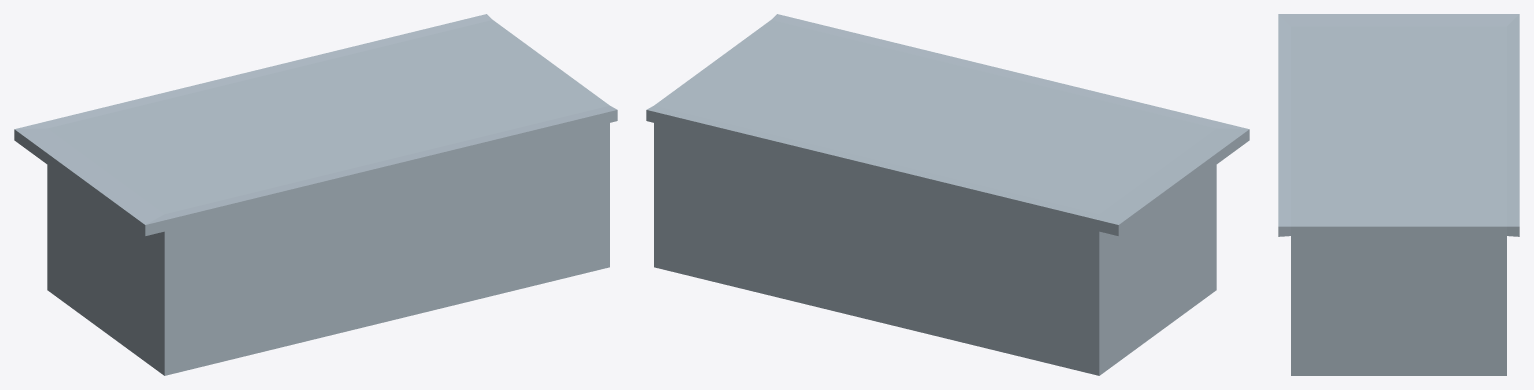
Rendered from counter.fbx.
3 renders of one model, left to right at view 1: azimuth 30°, elevation 25°; view 2: azimuth 150°, elevation 25°; view 3: azimuth 270°, elevation 25°, orthographic. The views are drawn at different scales.
Visible parts, largest first — view 1: Cube; view 2: Cube; view 3: Cube.
Part boxes in pixels (x1,y1,x2,y2): Cube: (14,14,617,375); Cube: (646,14,1249,375); Cube: (1278,14,1519,375).
Size of the model in its own units: 465 by 153 by 223.
